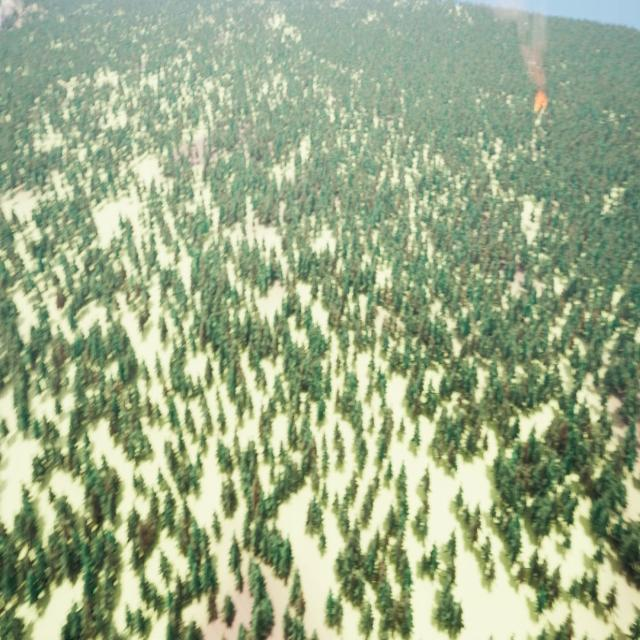fire: (532, 92, 545, 118)
smoke: (501, 3, 550, 91)
